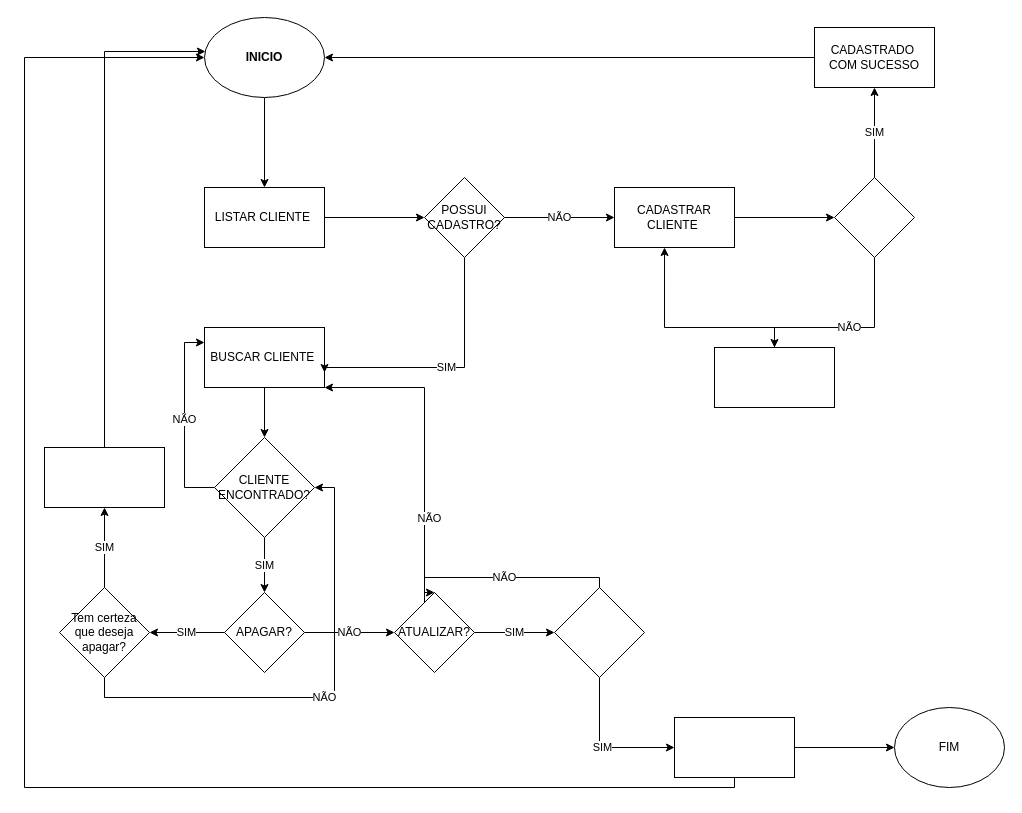
Image size: 1022x813. Some labels were removed from this diagram. Each missing label, with the centre of its shape:
"APAGAR CLIENTE" belongs at [104,477].
"CADASTRO ATUALIZADO" belongs at [734,747].
"MOSTRAR ERRO" belongs at [774,377].
"OS DADOS SÃO VALIDOS?" belongs at [599,632].
"É VALIDO?" belongs at [874,217].
